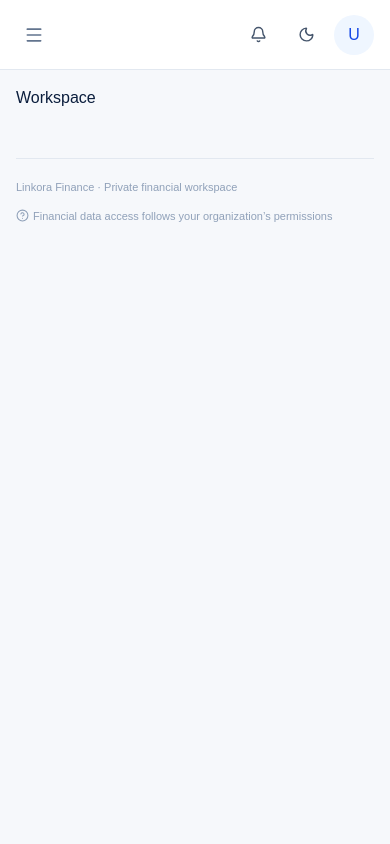
Test: workspace shell › opens the small-screen navigation drawer
Step 1. Click the button named "Open navigation" → (34, 34), box [16,16,52,52]
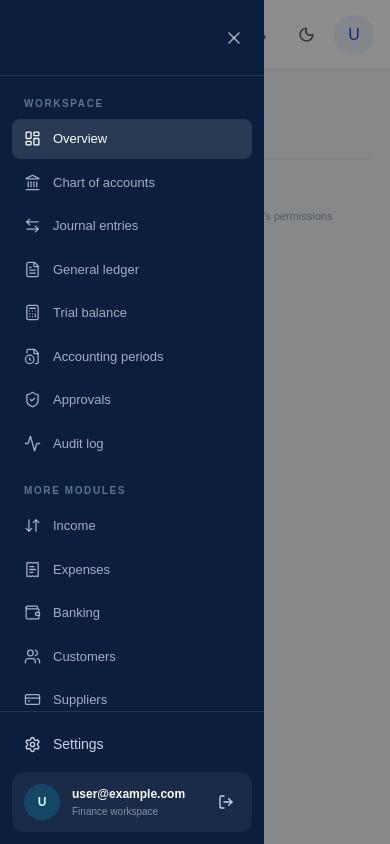
Expected: the element with class "z-40" is shown
Expected: the button named "Close navigation" is shown, [224,28,244,48]
